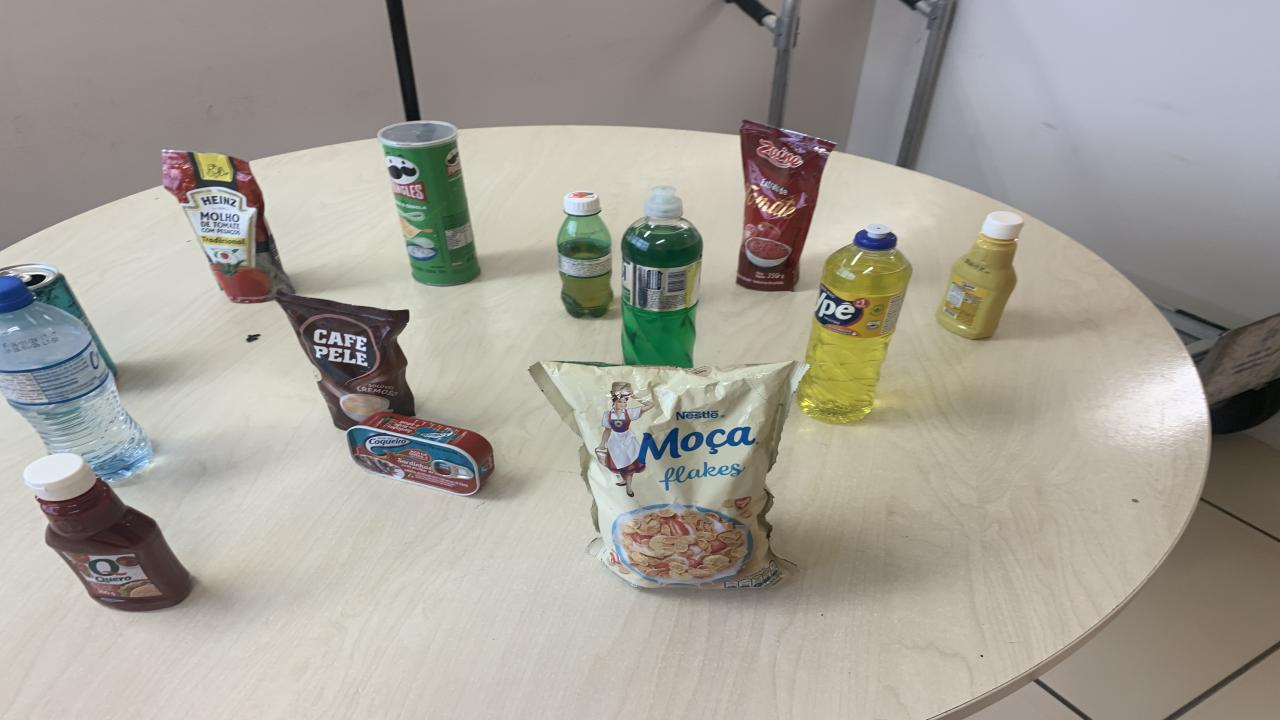Coffee-Pantry_Items: (275, 291, 415, 429)
Detergent-Cleanup_Items: (798, 225, 912, 424), (622, 186, 702, 368)
Flakes-Snacks: (530, 362, 808, 589)
Guarana-Drinks: (558, 191, 612, 317)
Ketchup-Pantry_Items: (22, 452, 192, 611)
Mustard-Pantry_Items: (938, 212, 1025, 339)
Pringles-Snacks: (378, 122, 480, 285)
Tea-Drinks: (0, 262, 118, 375)
Tomato_Sauce-Pantry_Items: (162, 150, 292, 304), (738, 120, 835, 291)
Tuna_Can-Pantry_Items: (348, 412, 495, 495)
Water_Bottle-Drinks: (0, 276, 152, 482)
